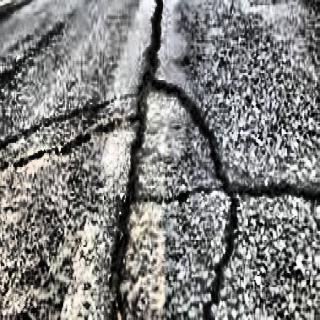crack: (150, 68, 232, 320), (110, 1, 165, 320), (0, 86, 143, 181), (124, 175, 320, 224)
